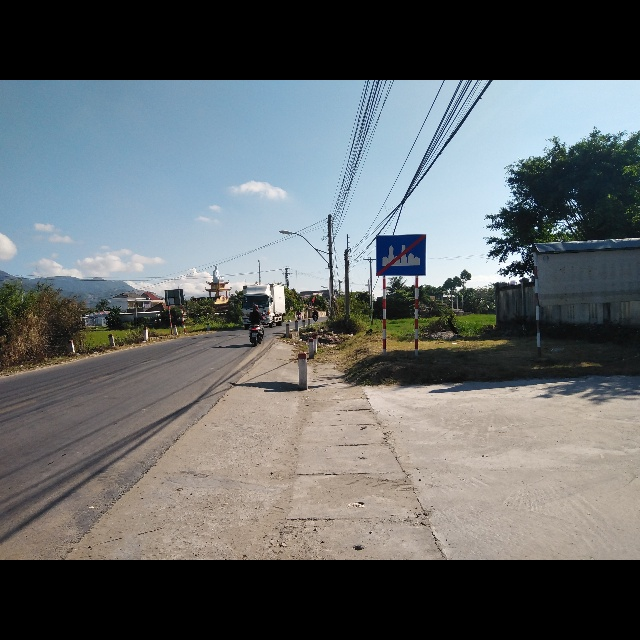Hết khu đông dân cư: (375, 234, 428, 277)
